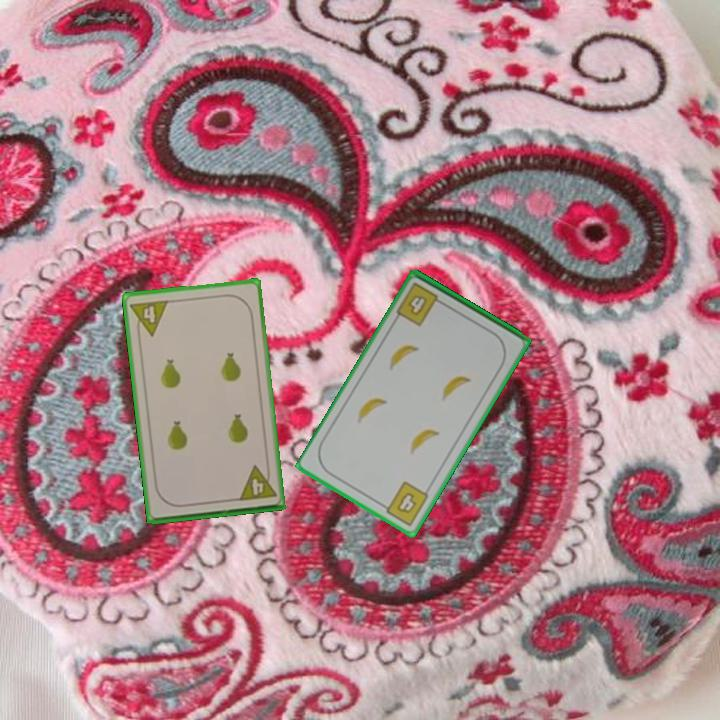4b: (377, 478, 432, 529), (393, 279, 448, 329)
4p: (127, 296, 171, 340), (235, 461, 279, 504)
